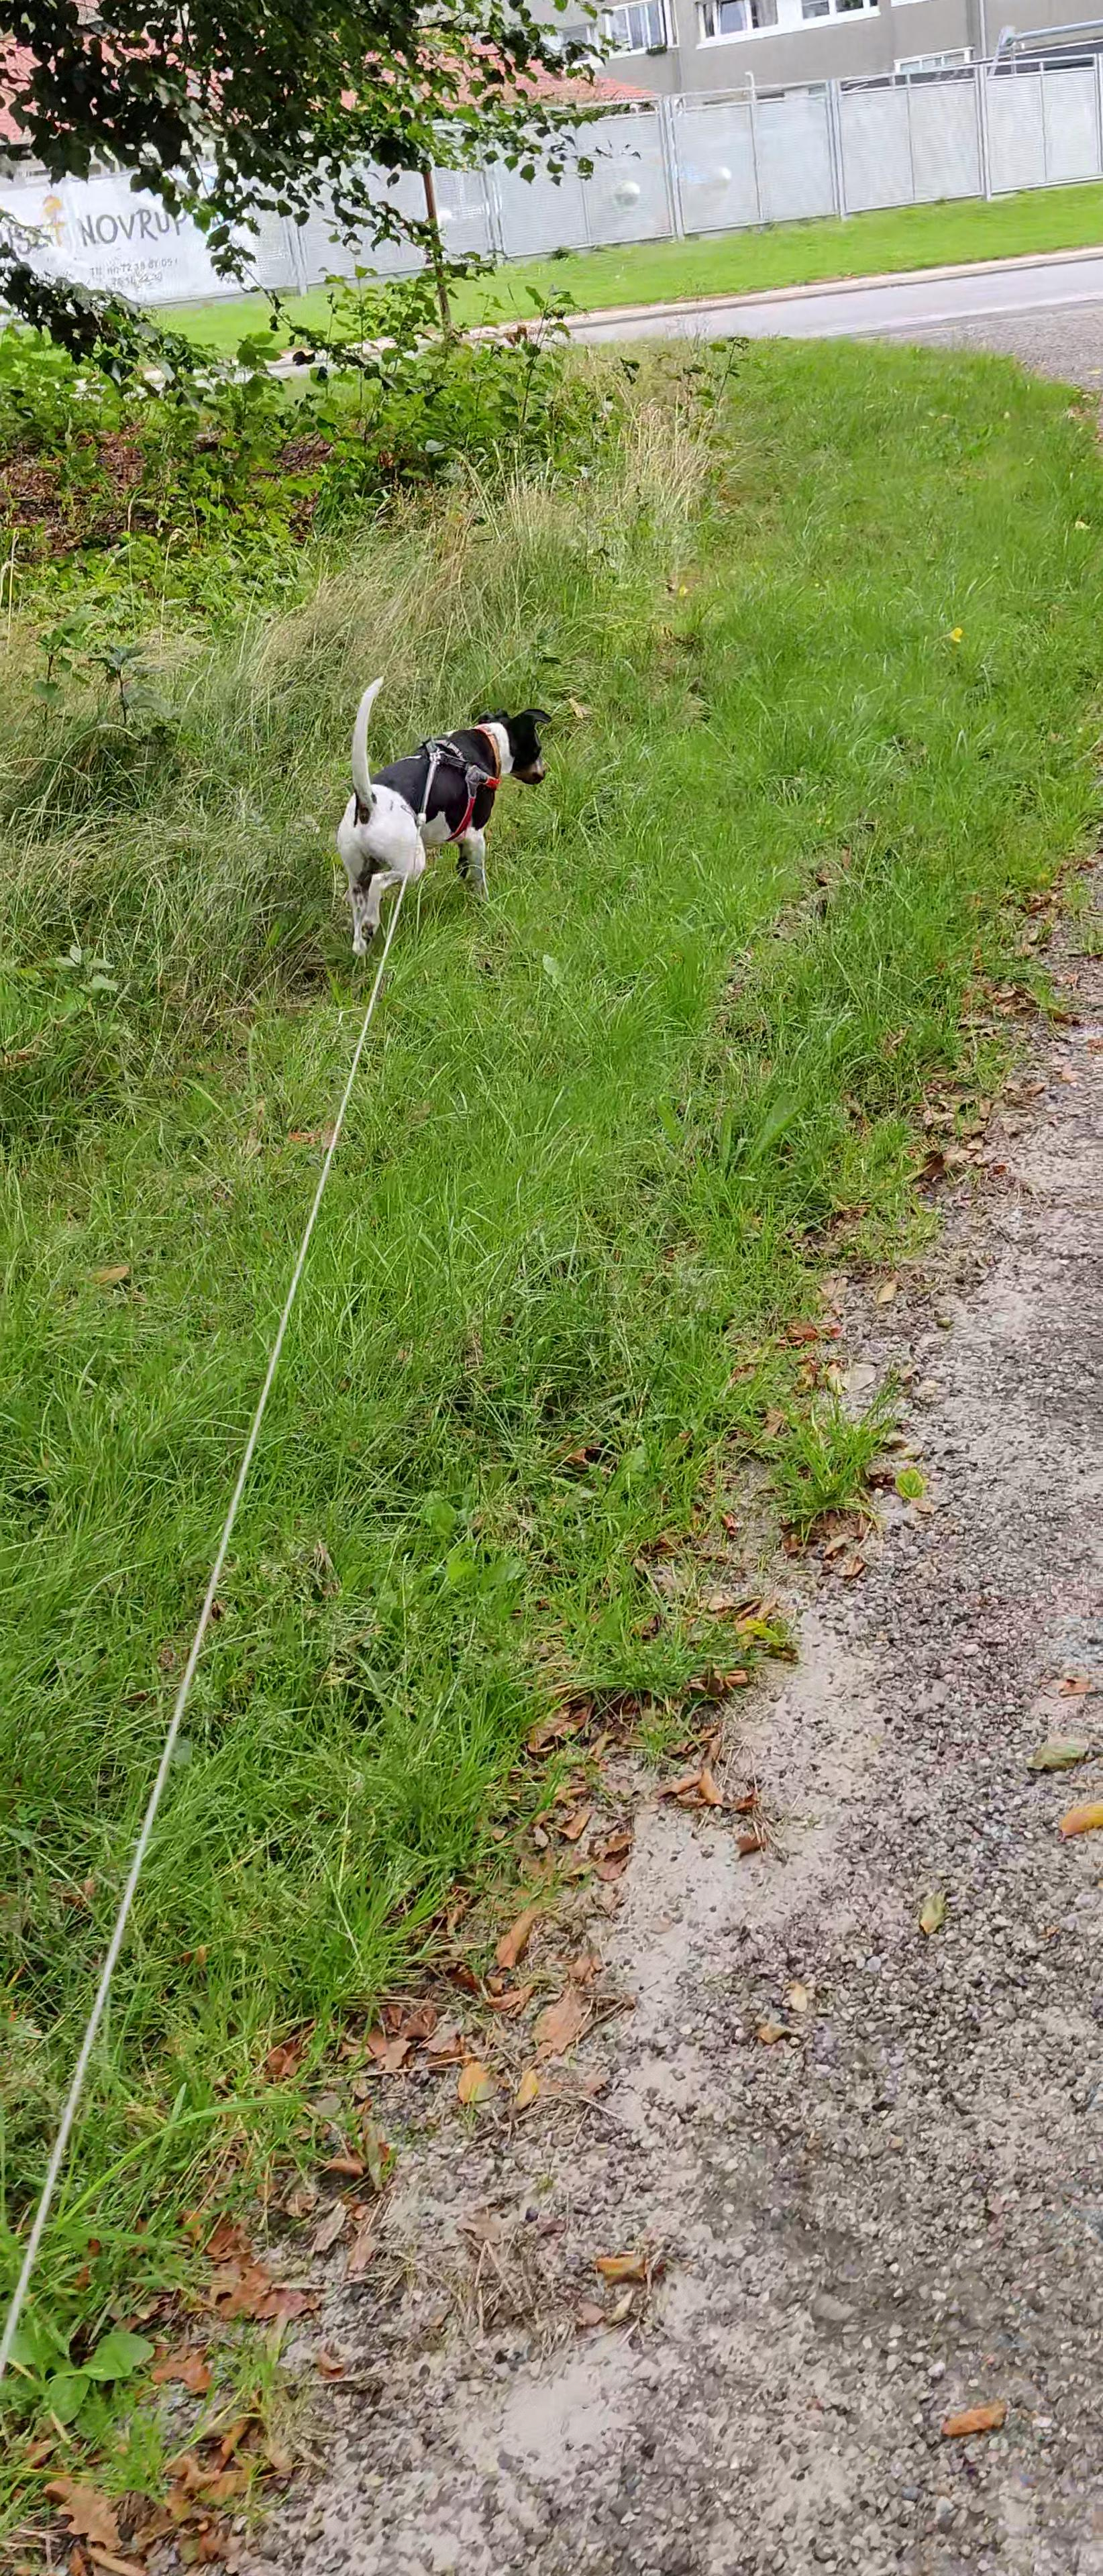Dog: (324, 665, 569, 969)
